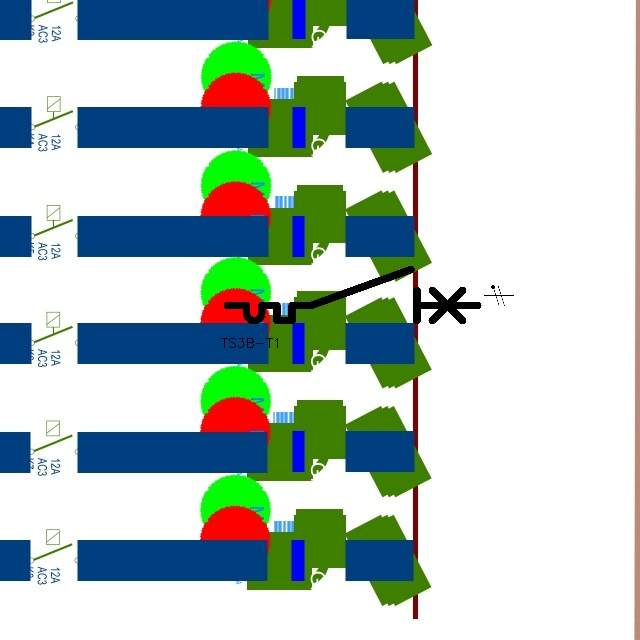interruptor_termomagnetico: (221, 263, 484, 327)
